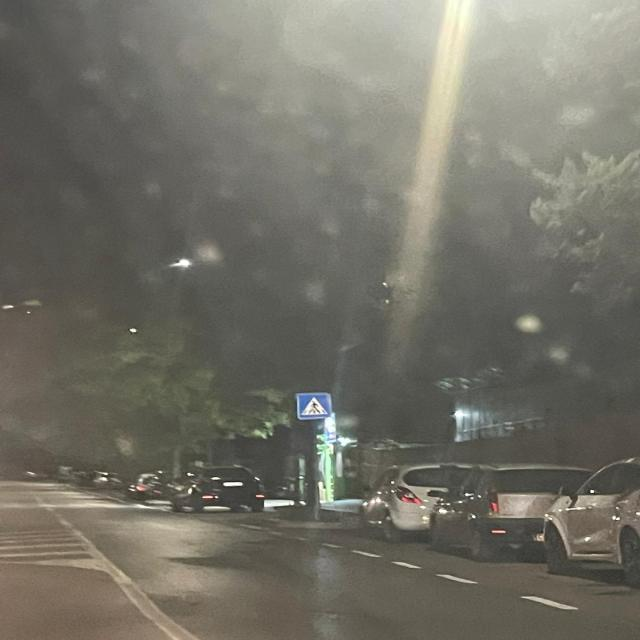info_crosswalk: (295, 392, 332, 420)
